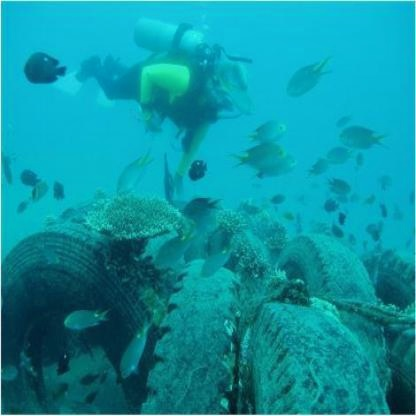tire: (1, 225, 175, 416), (238, 297, 391, 416), (140, 253, 247, 415), (276, 230, 383, 353), (379, 306, 416, 403), (366, 240, 416, 300)
